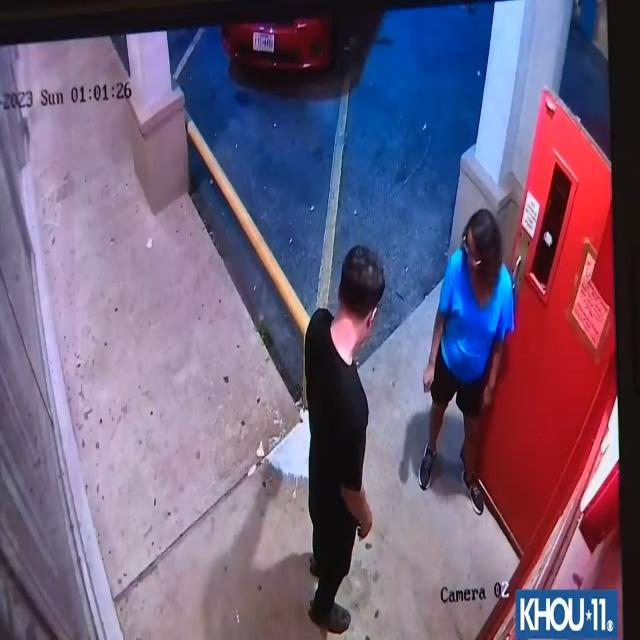Person: (419, 203, 513, 526), (302, 239, 376, 630)
